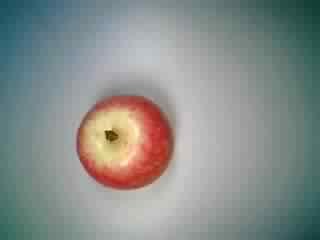apple: (72, 91, 178, 195)
